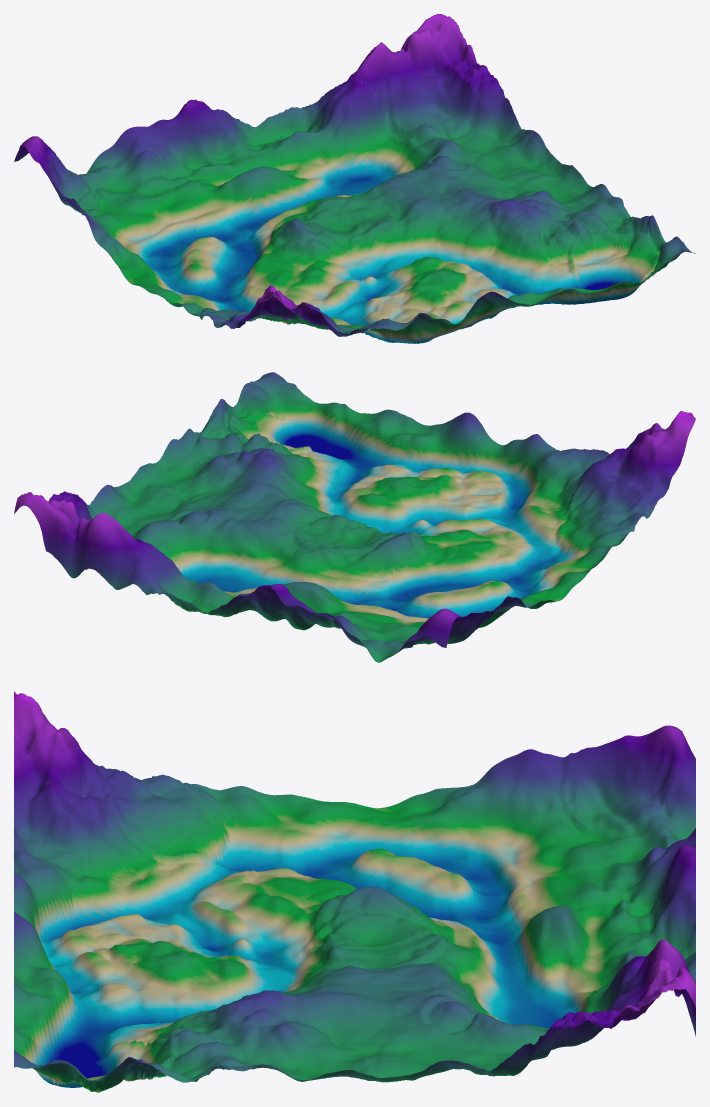
The model's file is landscape-6.glb.
3 views of the same model, one above another, from view 1: azimuth 30°, elevation 25°; view 2: azimuth 150°, elevation 25°; view 3: azimuth 270°, elevation 25° (orthographic). The views are drawn at different scales.
Visible parts, largest first — view 1: Plane; view 2: Plane; view 3: Plane.
Boxes of the visible parts, left/top/right/bottom form: Plane: left=14, top=14, right=695, bottom=343; Plane: left=14, top=372, right=695, bottom=662; Plane: left=14, top=691, right=695, bottom=1092.
Bounding box in the file's own units: 20 × 4.68 × 20.
